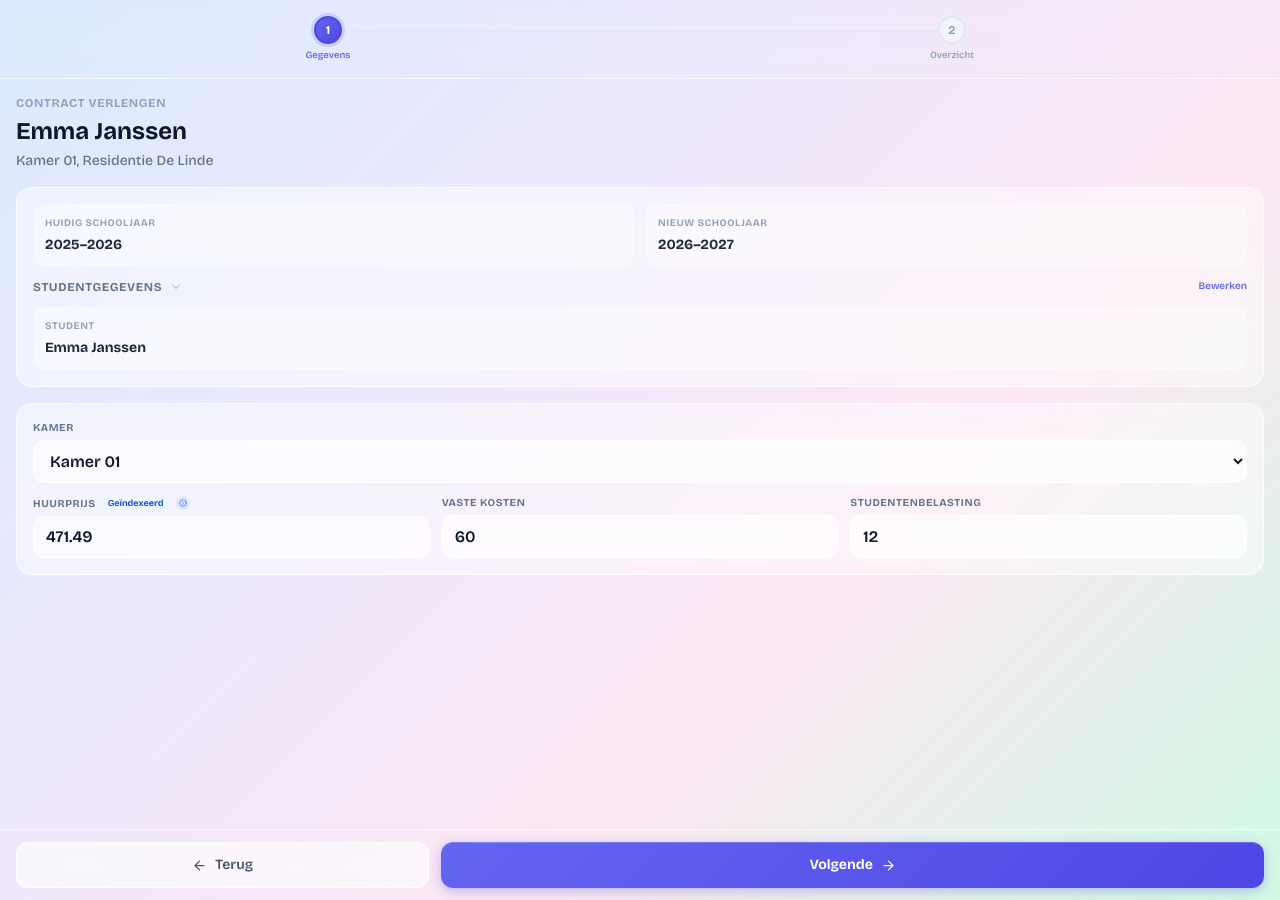
Test: ContractRenewPage › blokkeert Volgende als verplicht bedrag leeg is
This screenshot has width=1280, height=900.
Clear the number field named "Huurprijs": (231, 537) [33, 516, 430, 558]
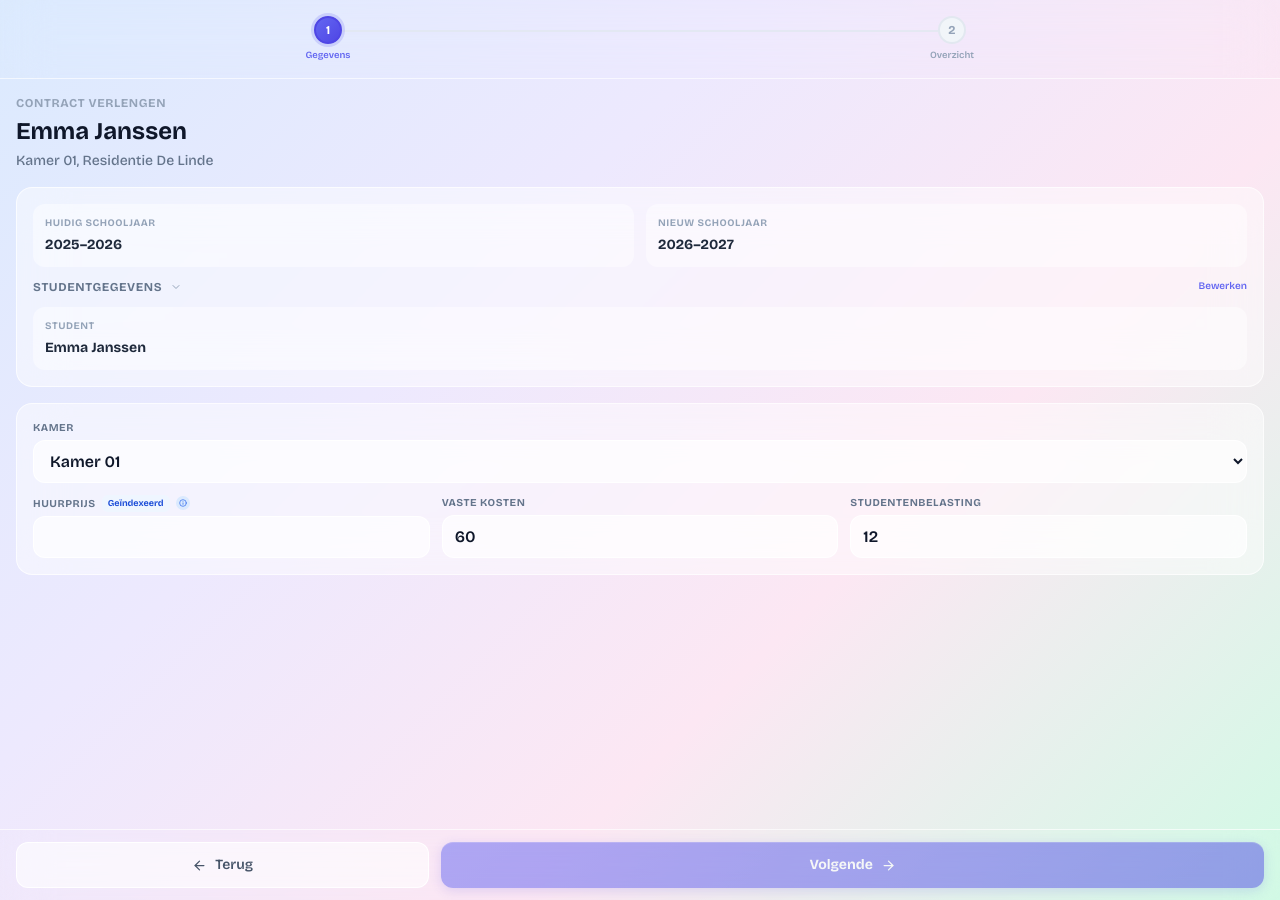
Now the button "Volgende" is disabled, box [441, 842, 1264, 888]
